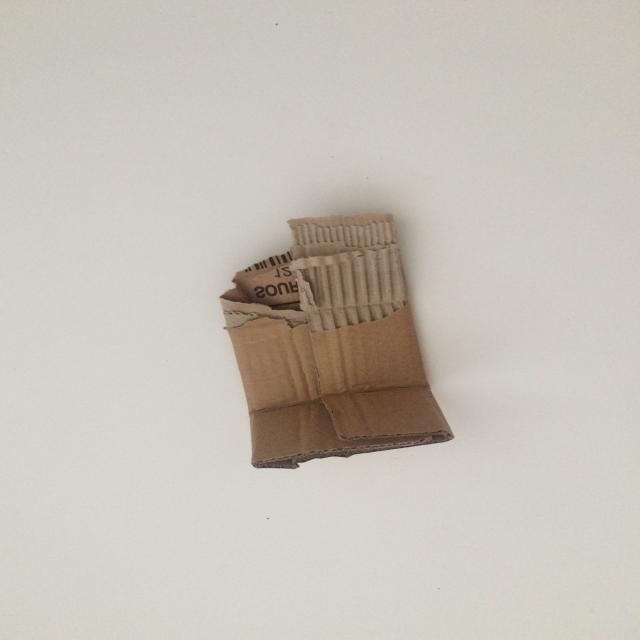cardboard: (219, 212, 455, 469)
